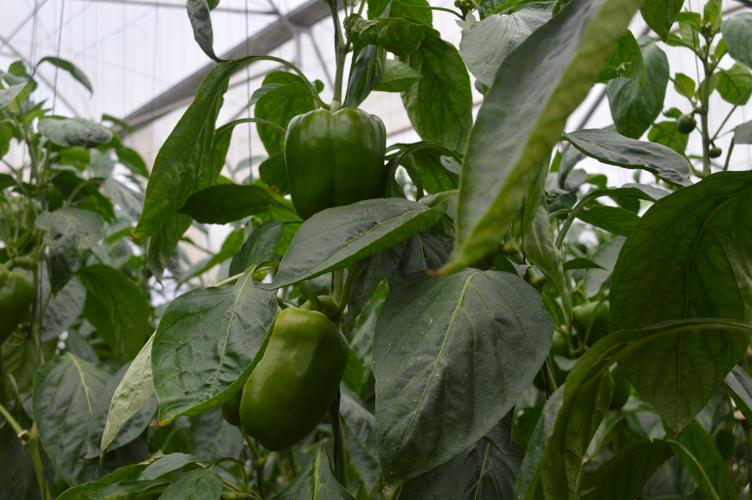BellPepper: (236, 303, 344, 459), (284, 101, 400, 233)
